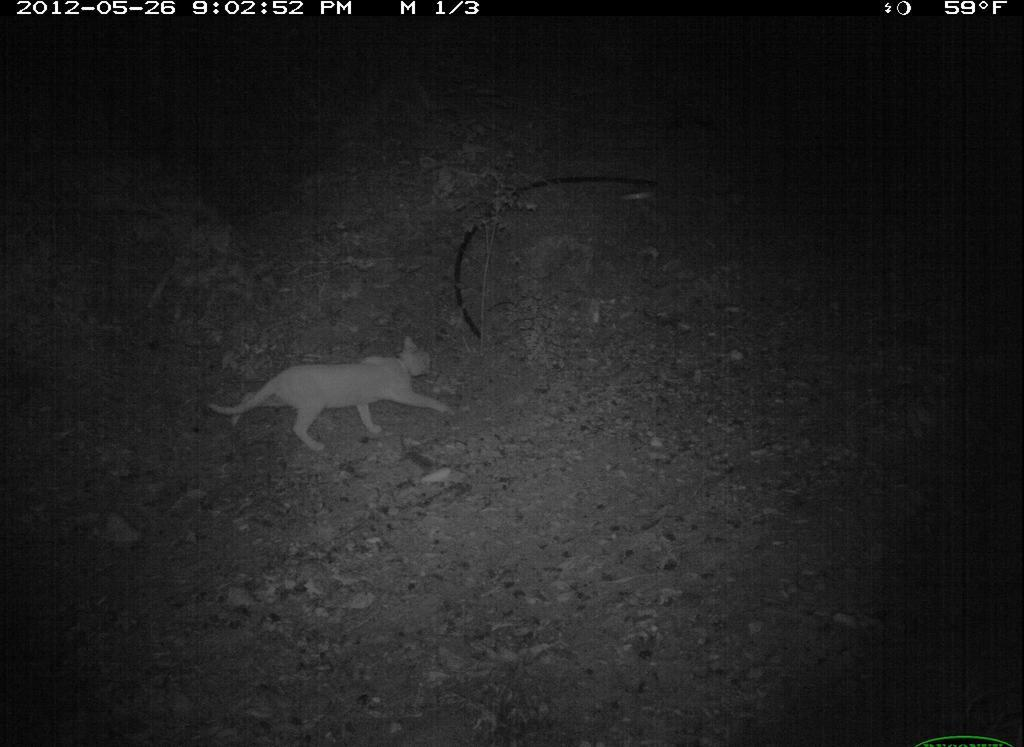cat: (204, 331, 457, 457)
